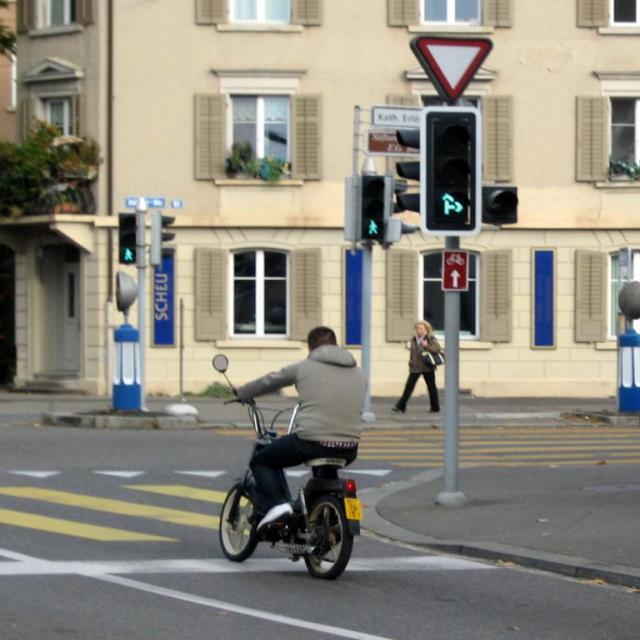traffic light: (420, 105, 483, 236), (363, 174, 384, 238), (118, 212, 139, 264)
